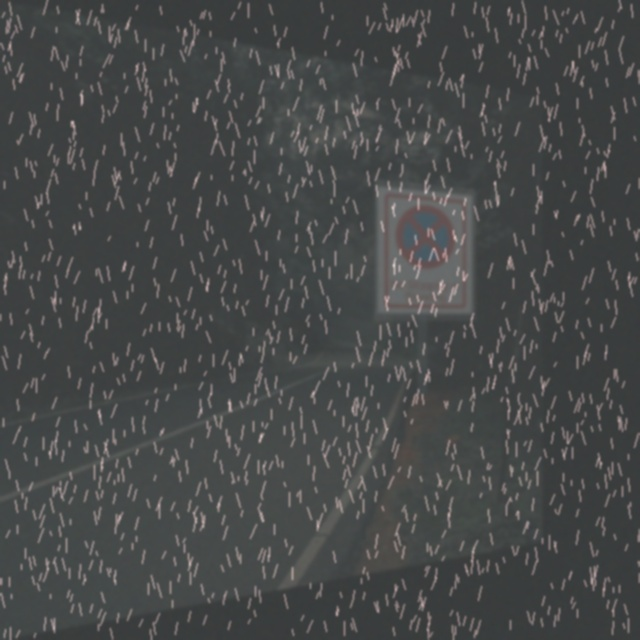No_Stopping_or_Standing: (389, 197, 461, 278)
